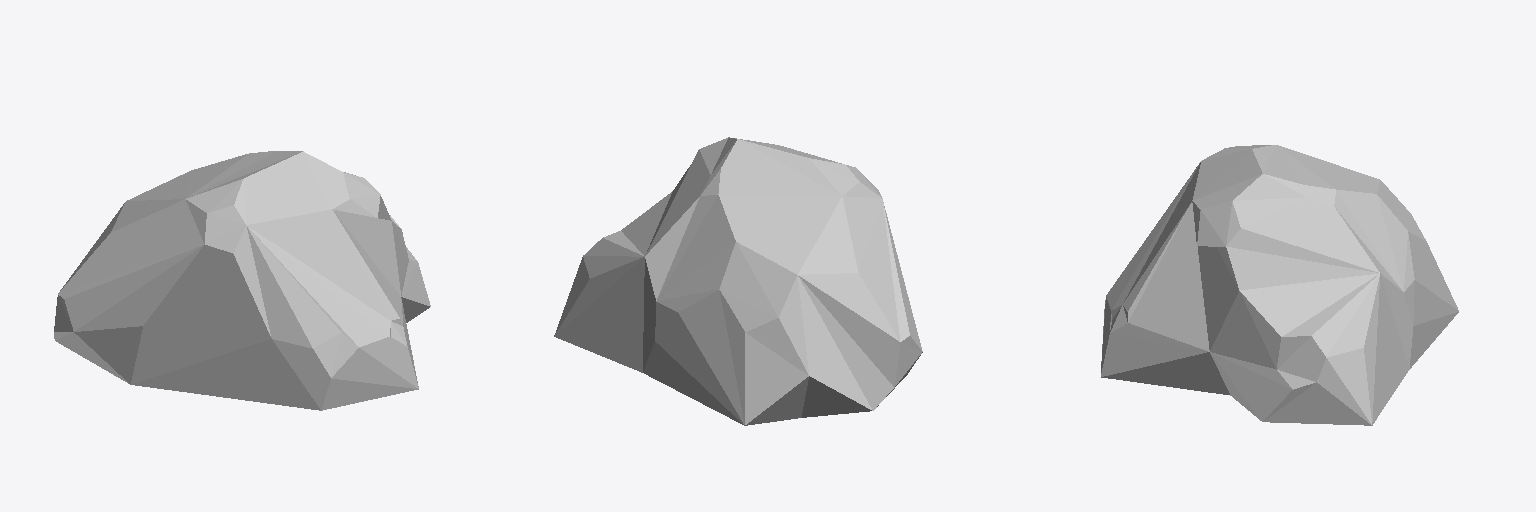
Rendered from rock2.obj.
3 renders of one model, left to right at view 1: azimuth 30°, elevation 25°; view 2: azimuth 150°, elevation 25°; view 3: azimuth 270°, elevation 25°, orthographic.
Parts seen in each view (by area): view 1: mesh_0; view 2: mesh_0; view 3: mesh_0.
Part boxes in pixels (left/top/right/bottom): mesh_0: left=54, top=151, right=430, bottom=410; mesh_0: left=554, top=137, right=922, bottom=425; mesh_0: left=1101, top=145, right=1458, bottom=425.
Size of the model in its own units: 9.42 by 5.42 by 8.69.